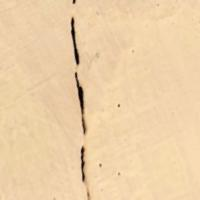crack: (46, 0, 115, 199)
